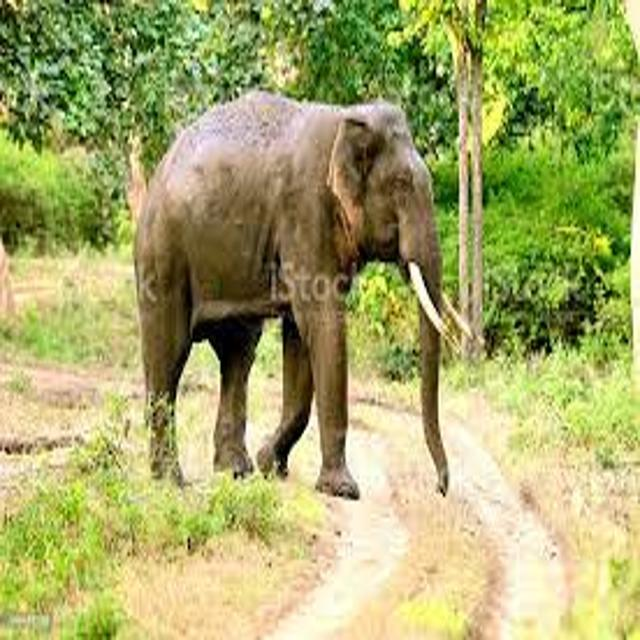elephant: (96, 55, 507, 526)
